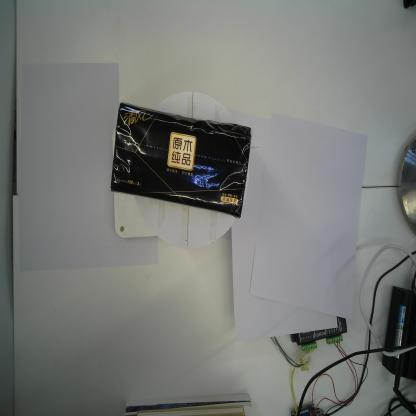Tissue: (111, 102, 253, 218)
